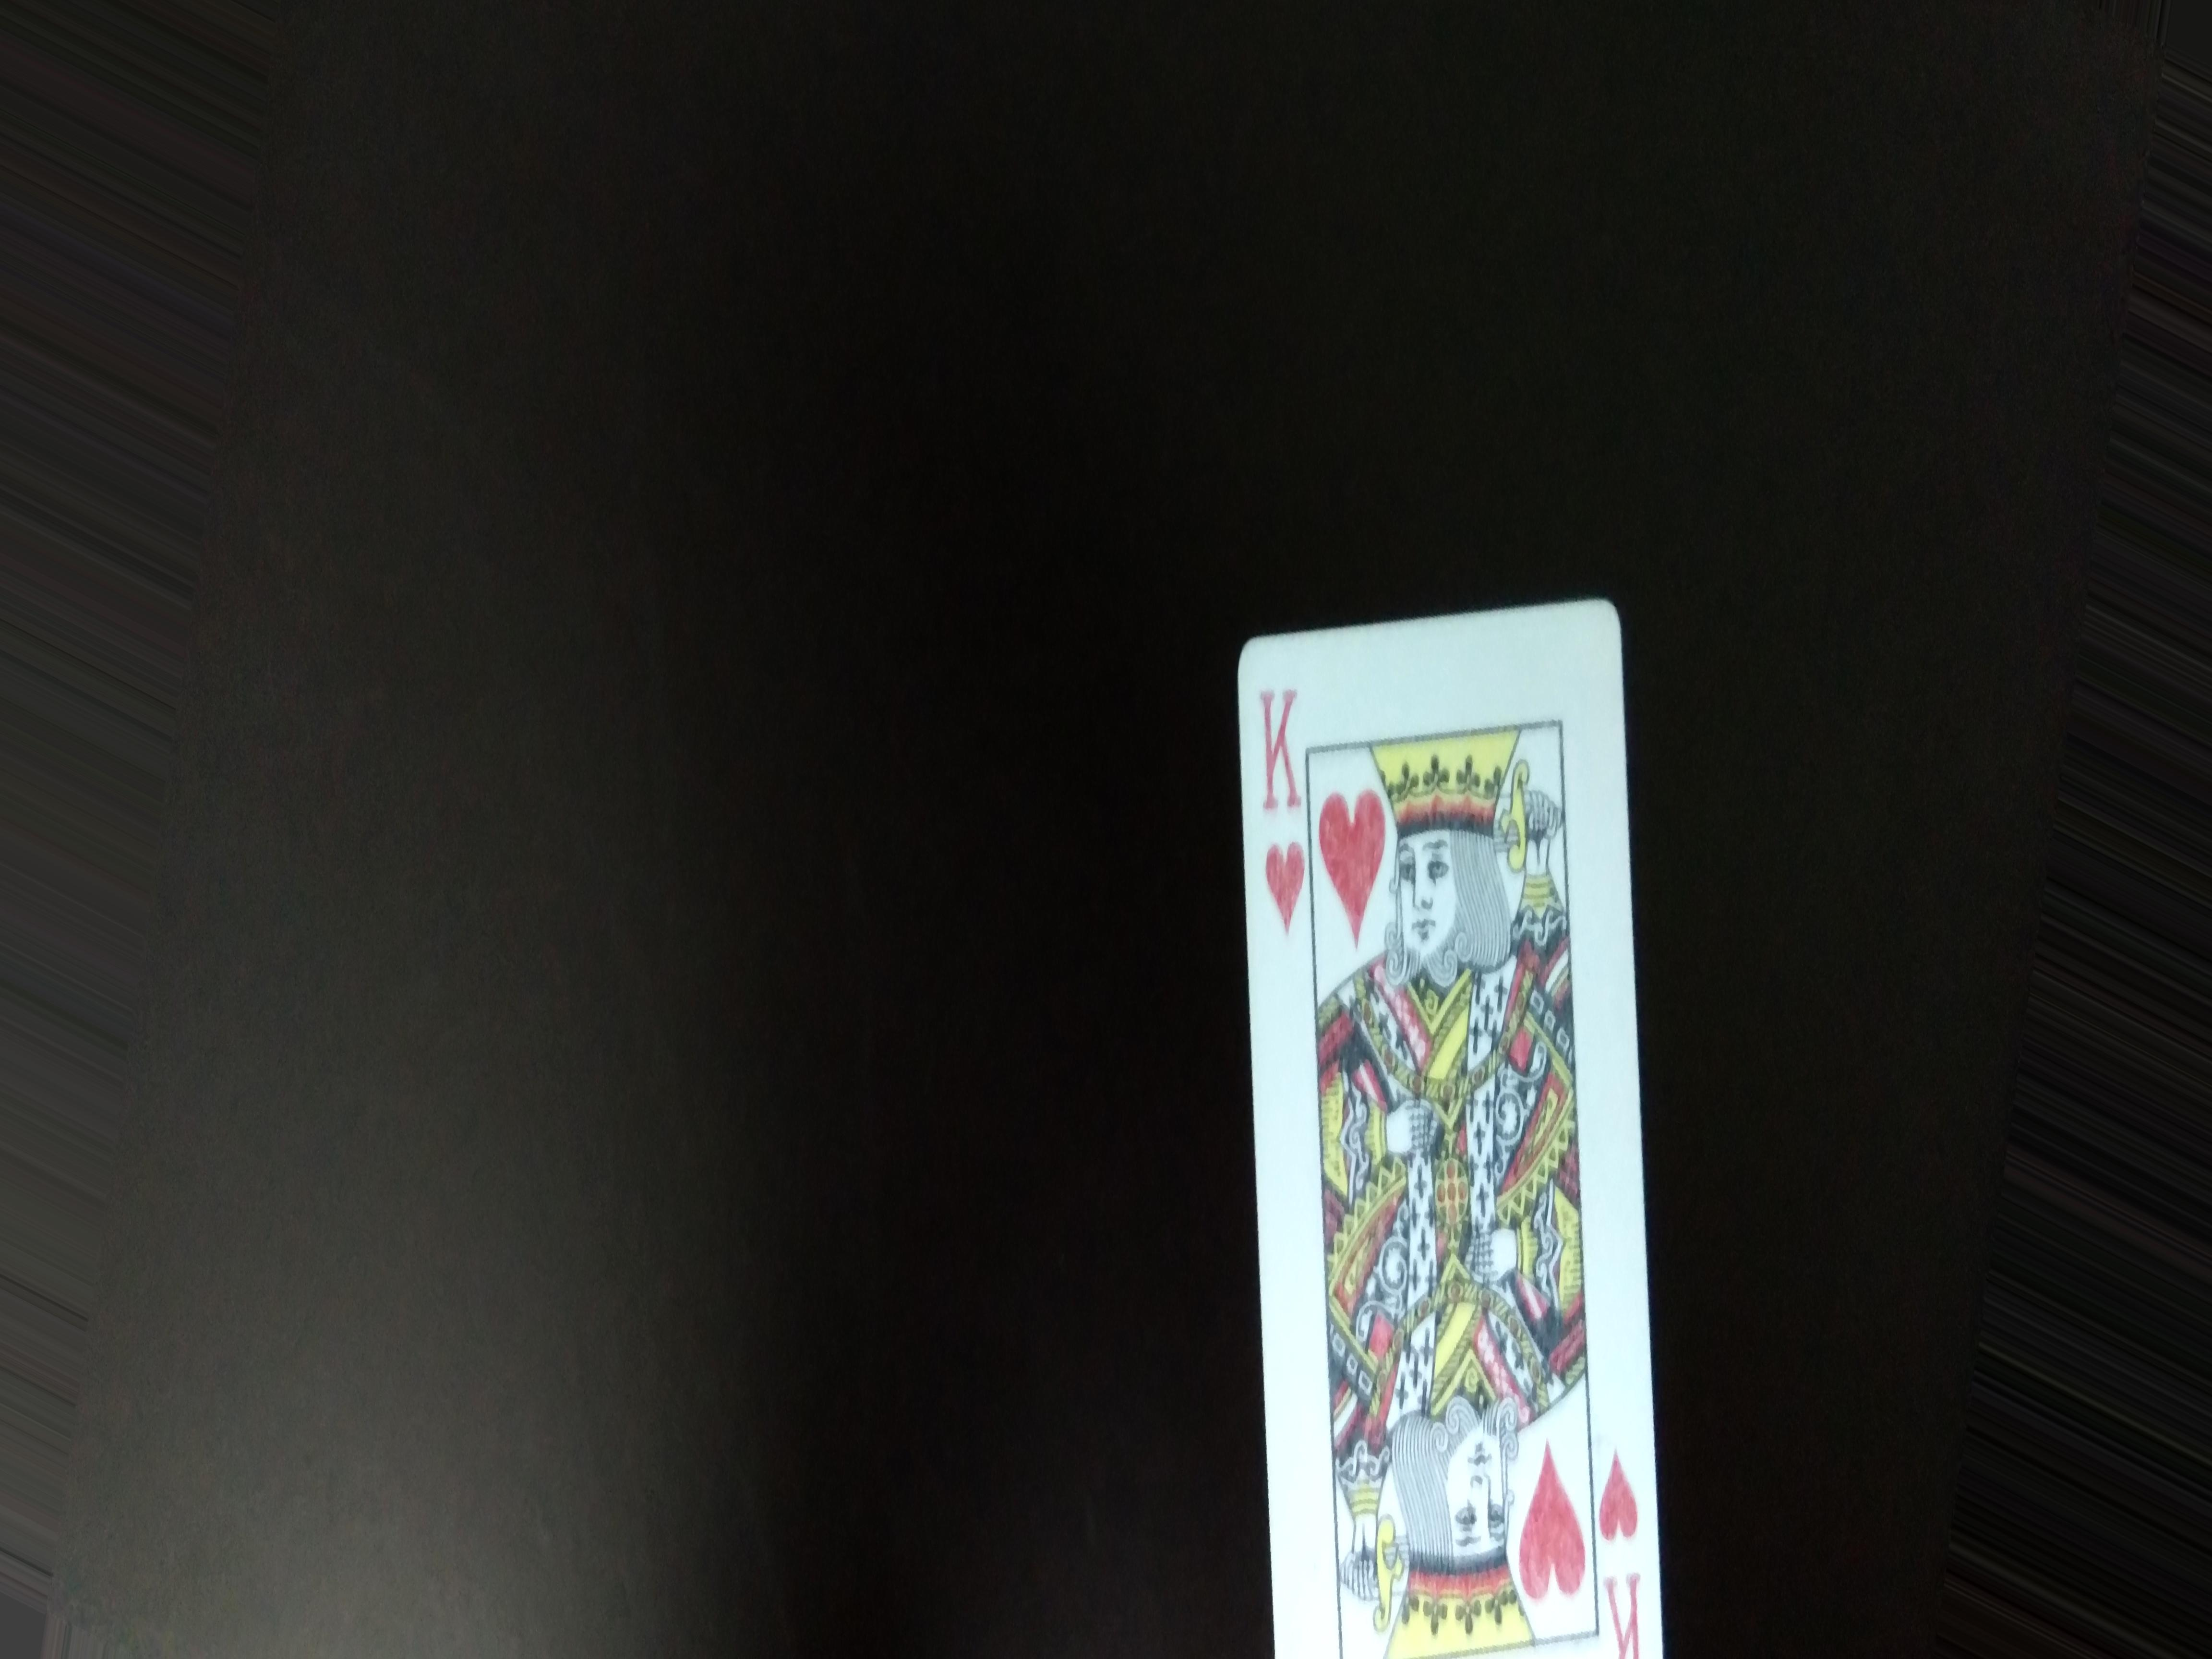KH: (1261, 678, 1308, 938)
